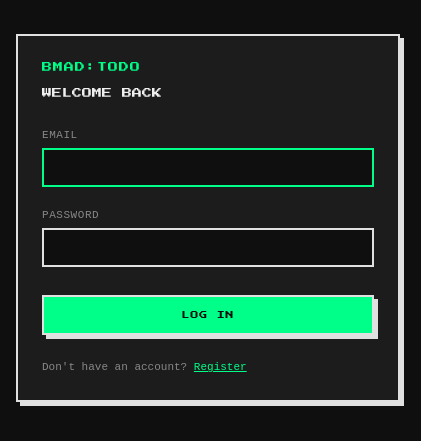
LoginPage › shows "Invalid email or password" alert on 401 response
Step 1. Type "user@test.com" into the field labelled "Email" → [208, 168], box [42, 148, 374, 187]
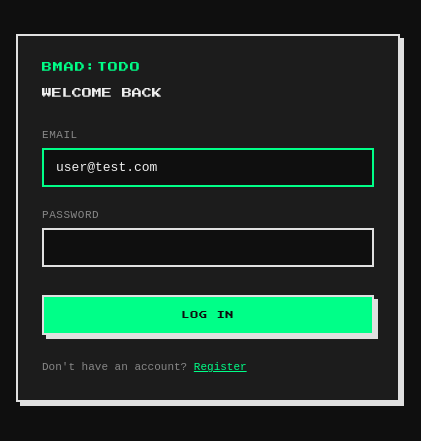
Step 2. Type "wrongpass" into the password field labelled "Password" → [208, 248], box [42, 228, 374, 267]
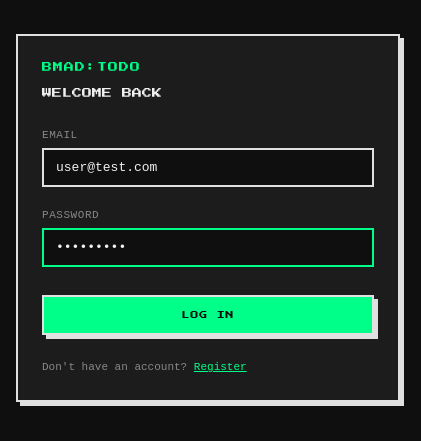
Step 3. Click the button "LOG IN" → [208, 315], box [42, 295, 374, 335]
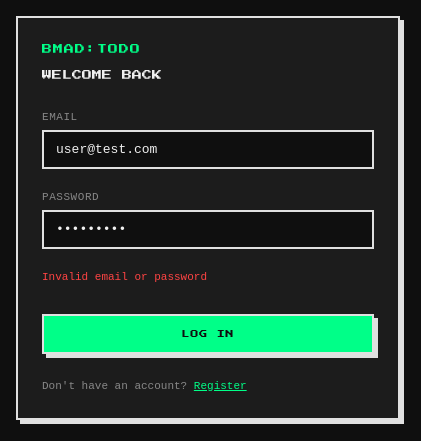
expect the message reads "Invalid email or password": met, box [42, 271, 207, 283]
